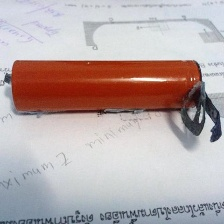battery: (9, 56, 206, 117)
